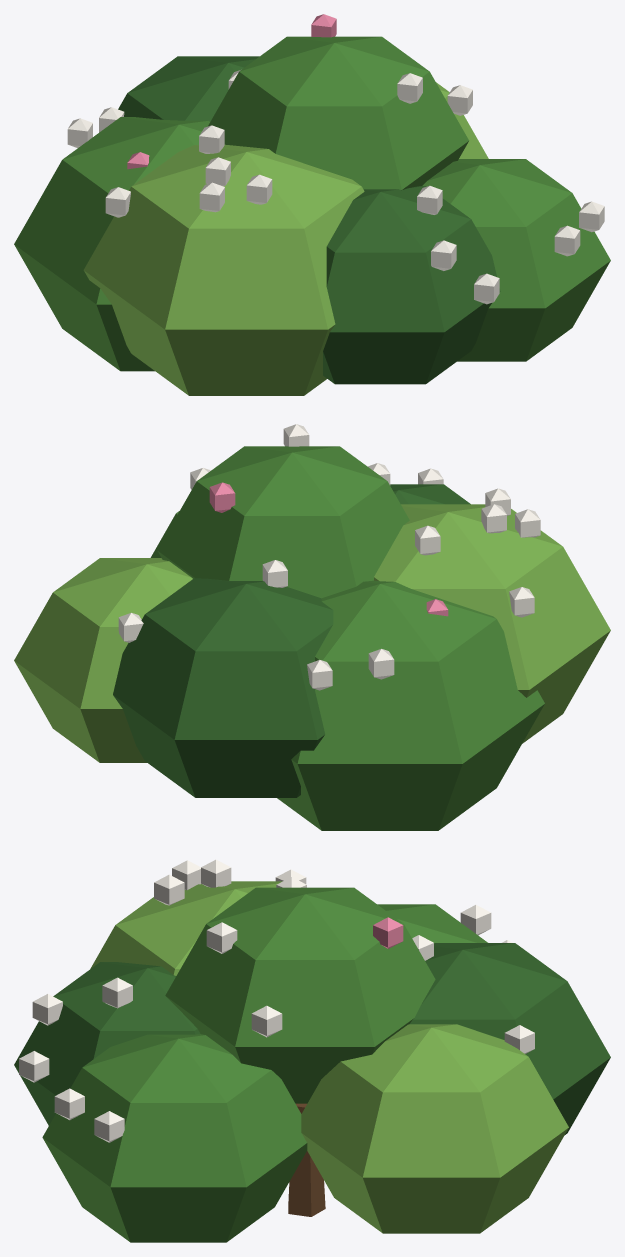
Rendered from bush_flowers.glb.
3 views of the same model, one above another, from view 1: azimuth 30°, elevation 25°; view 2: azimuth 150°, elevation 25°; view 3: azimuth 270°, elevation 25° (orthographic). The views are drawn at different scales.
Visible parts, largest first — view 1: scatter_bush_flowers; view 2: scatter_bush_flowers; view 3: scatter_bush_flowers.
Part boxes in pixels (x1,y1,x2,y2): scatter_bush_flowers: [14, 14, 610, 395]; scatter_bush_flowers: [14, 424, 610, 830]; scatter_bush_flowers: [14, 859, 610, 1242].
Bounding box in the file's own units: 1.75 × 1.23 × 2.03.
